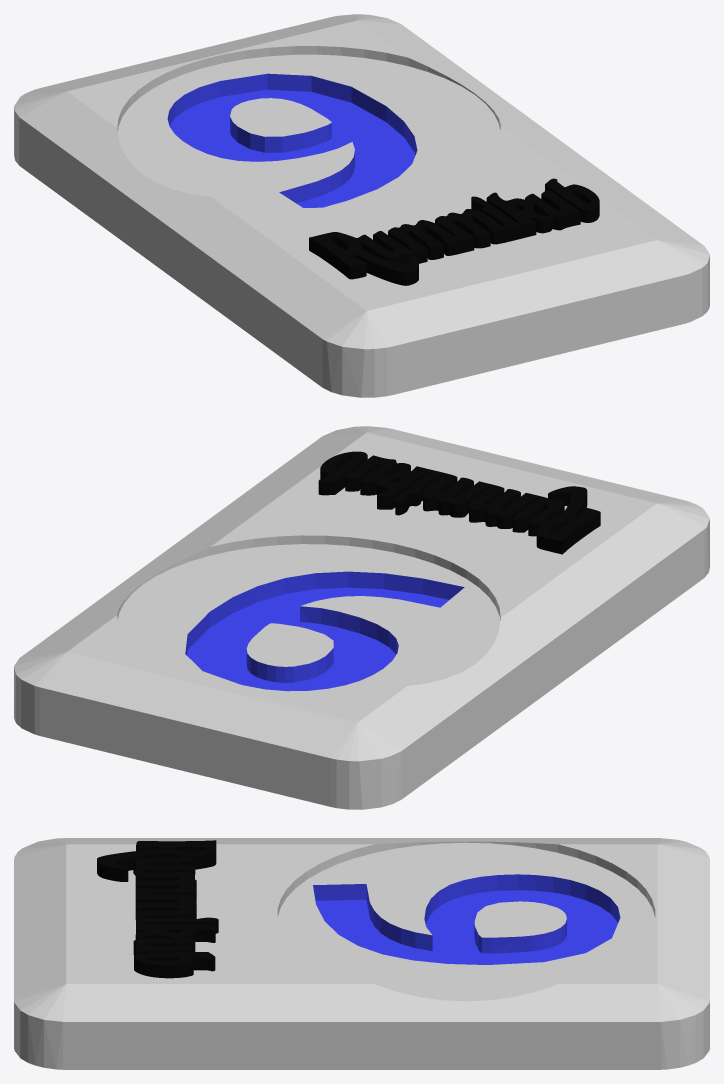
3 renders of one model, top to bottom at view 1: azimuth 30°, elevation 25°; view 2: azimuth 150°, elevation 25°; view 3: azimuth 270°, elevation 25°, orthographic.
Visible parts, largest first — view 1: Rummikub 9 Fixed, Rummikub 1 Fixed.001; view 2: Rummikub 9 Fixed, Rummikub 1 Fixed.001; view 3: Rummikub 9 Fixed, Rummikub 1 Fixed.001.
Part boxes in pixels (<box>): Rummikub 9 Fixed: <box>14,14,709,397</box>; Rummikub 1 Fixed.001: <box>309,178,599,285</box>; Rummikub 9 Fixed: <box>14,426,709,809</box>; Rummikub 1 Fixed.001: <box>318,451,600,554</box>; Rummikub 9 Fixed: <box>14,838,709,1069</box>; Rummikub 1 Fixed.001: <box>97,840,218,978</box>.
Size of the model in its own units: 2499 by 486 by 4000.
